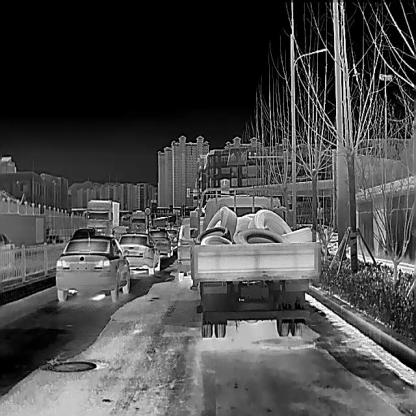car: (54, 236, 131, 302), (176, 214, 210, 282), (116, 233, 162, 276), (0, 228, 18, 271), (148, 226, 172, 258), (66, 225, 97, 242), (164, 226, 179, 249)
truck: (187, 184, 323, 337), (80, 197, 122, 237), (129, 208, 149, 233)
